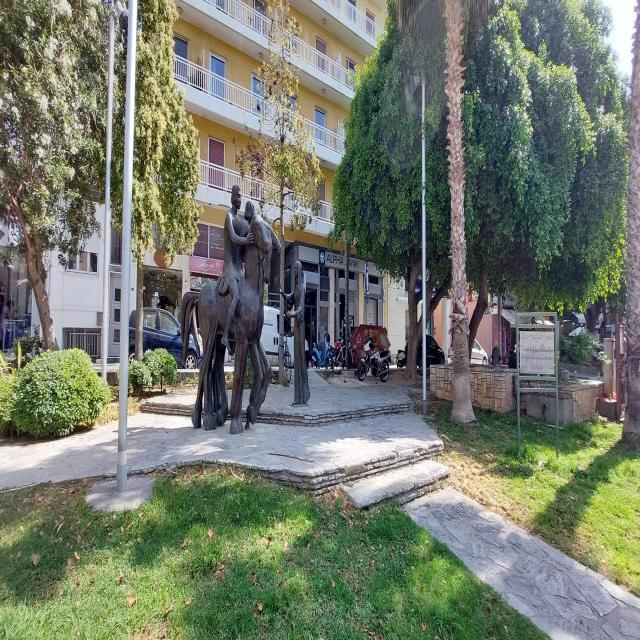Aretousa: (181, 186, 311, 434)
